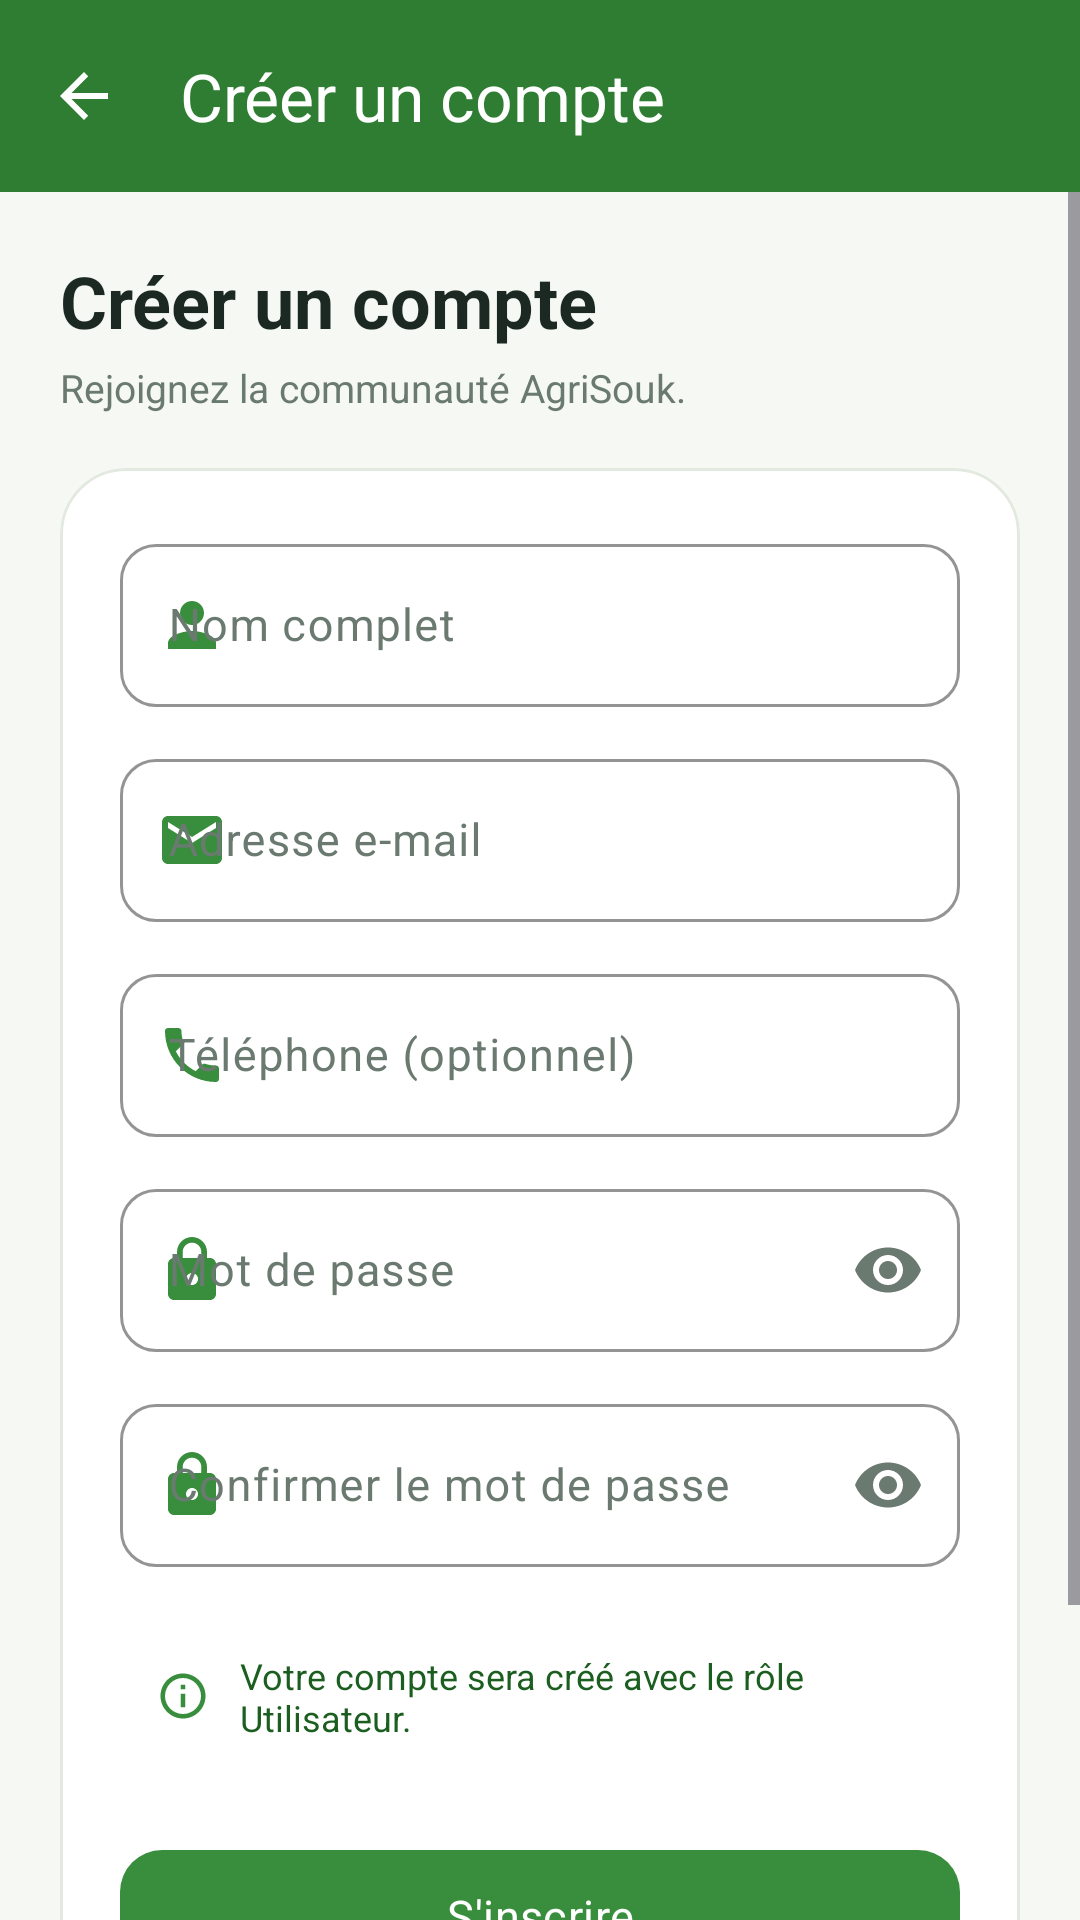

Locate icon controls on the screen. Image size 1080px×1920px, boxes as (x1, y1, x2, y2).
info: (160, 1673, 206, 1719)
